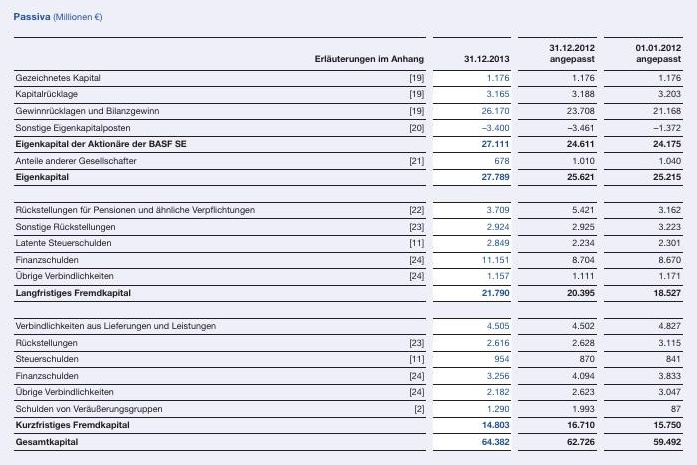table: (0, 0, 697, 465)
